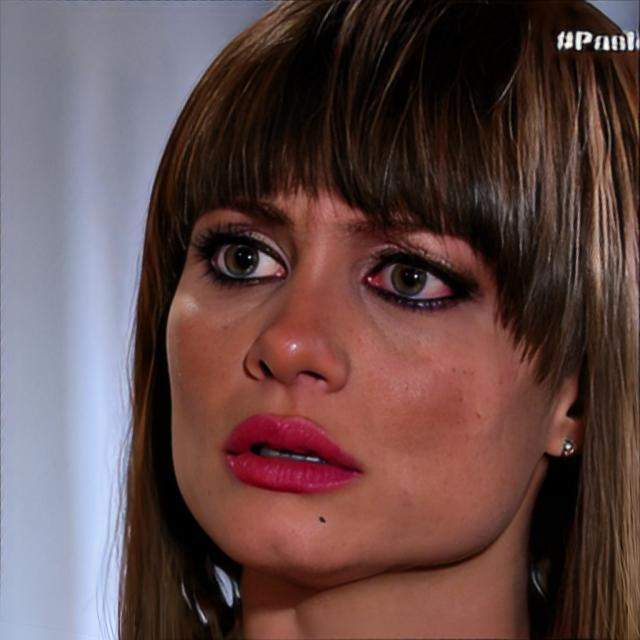Fear: (160, 66, 560, 577)
